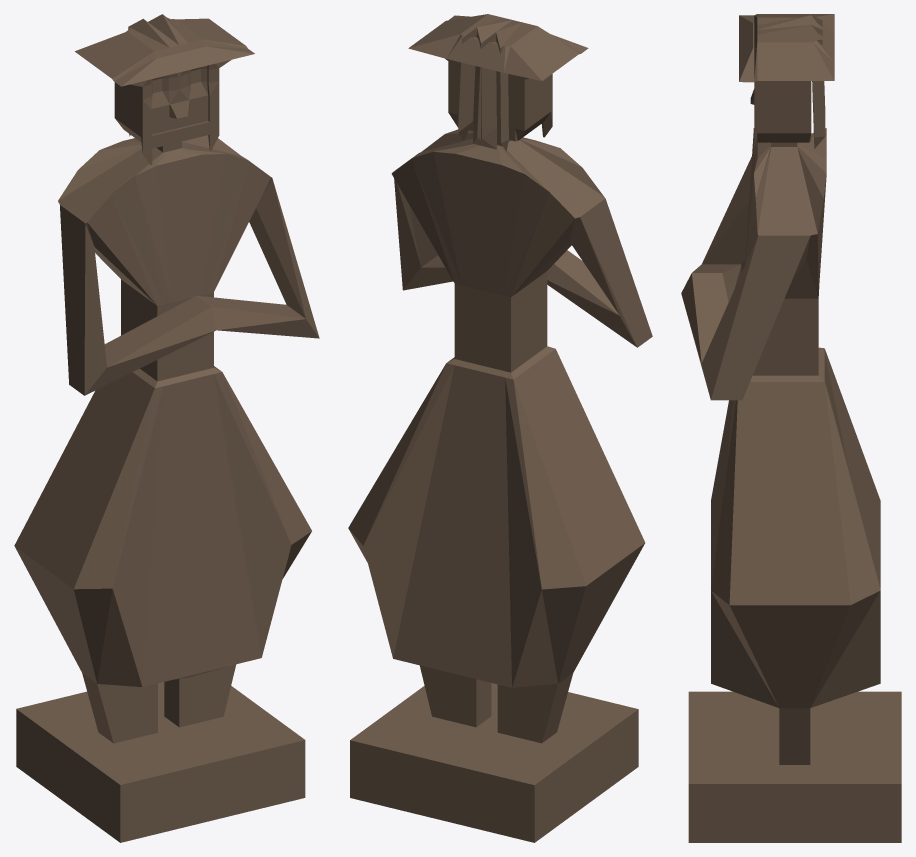
The model's file is Figurine_Two_1209.fbx.
The picture shows the model from 3 angles, left to right: view 1: azimuth 30°, elevation 25°; view 2: azimuth 150°, elevation 25°; view 3: azimuth 270°, elevation 25°; orthographic projection. The views are drawn at different scales.
Parts seen in each view (by area): view 1: Figurine_Two; view 2: Figurine_Two; view 3: Figurine_Two.
Boxes of the visible parts, x1,y1,x2,y2 form: Figurine_Two: (14, 14, 319, 842); Figurine_Two: (348, 14, 652, 842); Figurine_Two: (681, 14, 901, 842).
Size of the model in its own units: 863 by 2627 by 676.
